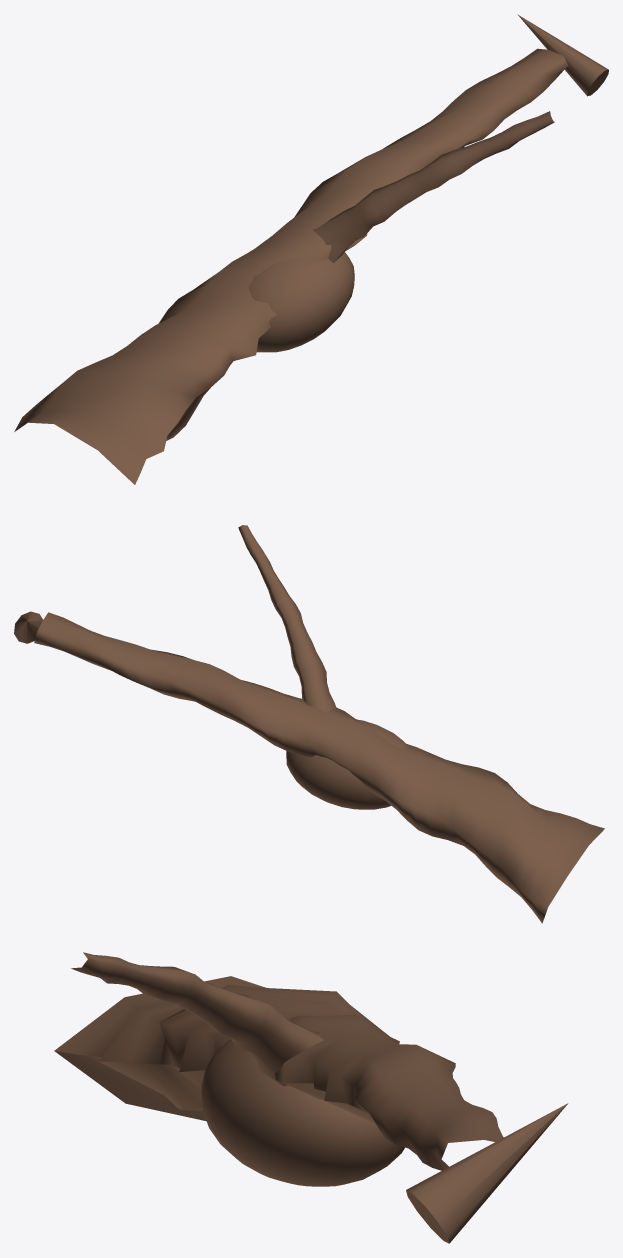
File: driftwood-secondary-a.glb
3 renders of one model, top to bottom at view 1: azimuth 30°, elevation 25°; view 2: azimuth 150°, elevation 25°; view 3: azimuth 270°, elevation 25°, orthographic. The views are drawn at different scales.
Size of the model in its own units: 3.43 by 1.64 by 1.46.
